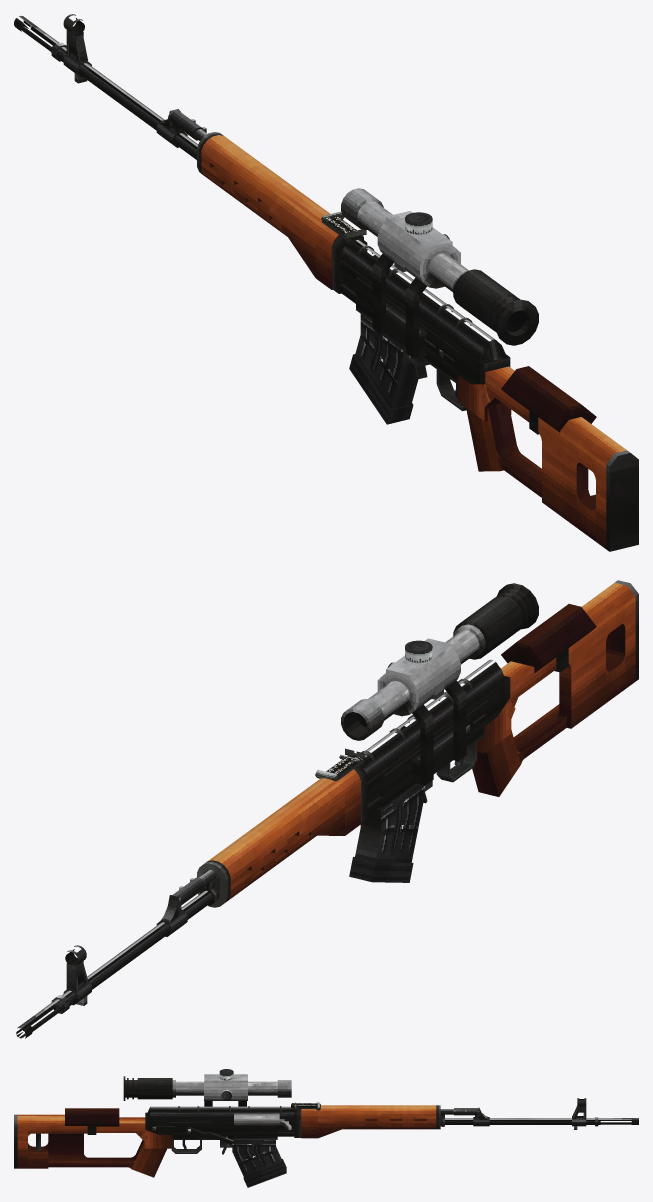
Rendered from marksman_rifle.glb.
3 renders of one model, top to bottom at view 1: azimuth 30°, elevation 25°; view 2: azimuth 150°, elevation 25°; view 3: azimuth 270°, elevation 25°, orthographic. The views are drawn at different scales.
Visible parts, largest first — view 1: marksman_rifle; view 2: marksman_rifle; view 3: marksman_rifle.
Part boxes in pixels (x1,y1,x2,y2): marksman_rifle: (14, 14, 638, 551); marksman_rifle: (16, 580, 638, 1038); marksman_rifle: (14, 1069, 638, 1187).
Size of the model in its own units: 0.0693 by 0.2436 by 1.22.
Materials: 9 (9 with a texture image).
